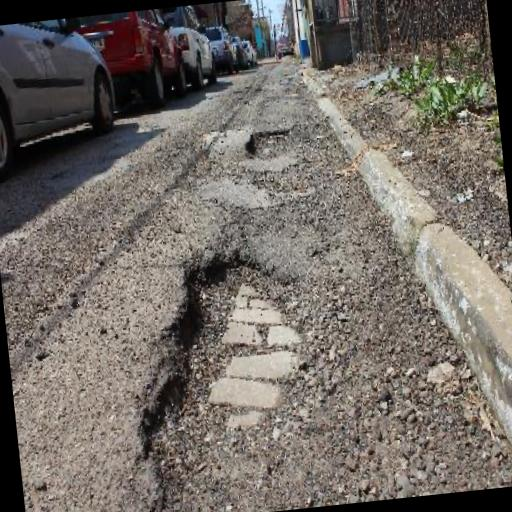pothole: (112, 243, 340, 512), (241, 122, 297, 162)
